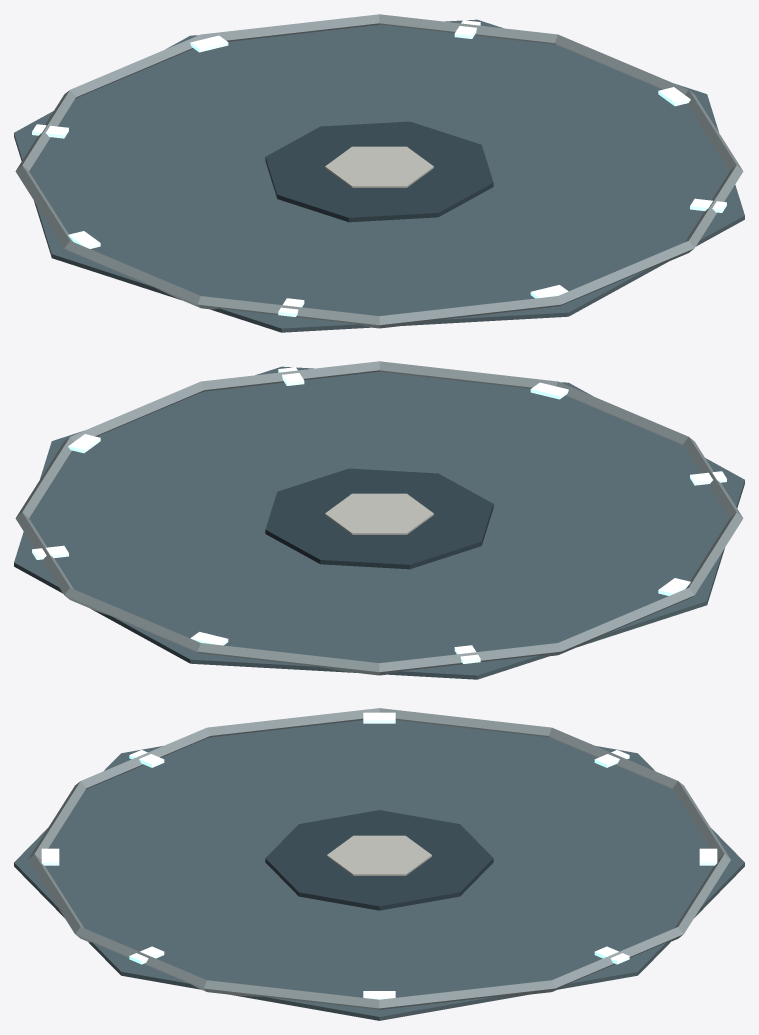
File: station-low.glb
The picture shows the model from 3 angles, top to bottom: view 1: azimuth 30°, elevation 25°; view 2: azimuth 150°, elevation 25°; view 3: azimuth 270°, elevation 25°; orthographic projection. The views are drawn at different scales.
Parts seen in each view (by area): view 1: asset_station__FP_Baked, asset_station__FP_Signal; view 2: asset_station__FP_Baked, asset_station__FP_Signal; view 3: asset_station__FP_Baked, asset_station__FP_Signal.
Boxes of the visible parts, bbox=[...] form: asset_station__FP_Baked: bbox=[14, 14, 744, 332]; asset_station__FP_Signal: bbox=[32, 20, 726, 316]; asset_station__FP_Baked: bbox=[14, 361, 744, 679]; asset_station__FP_Signal: bbox=[32, 367, 726, 663]; asset_station__FP_Baked: bbox=[14, 708, 744, 1020]; asset_station__FP_Signal: bbox=[41, 712, 717, 999].
Bounding box in the file's own units: 5 × 0.095 × 5.
